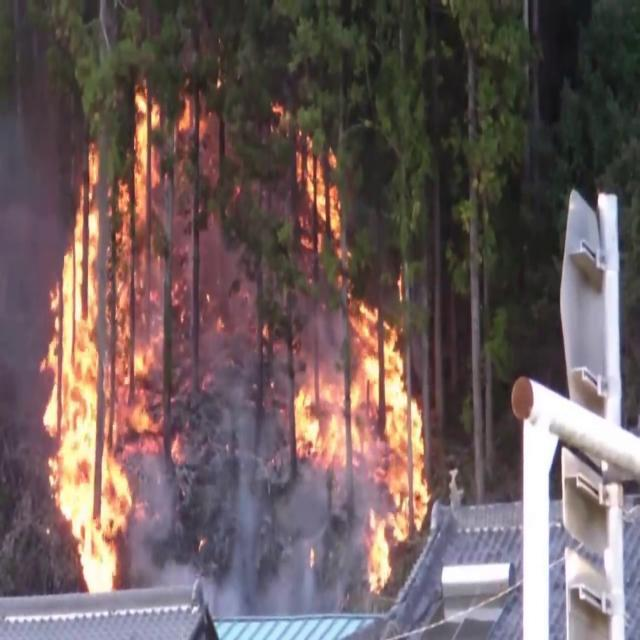Fire: (30, 126, 175, 593), (286, 162, 436, 586)
Smoke: (133, 344, 340, 612)
